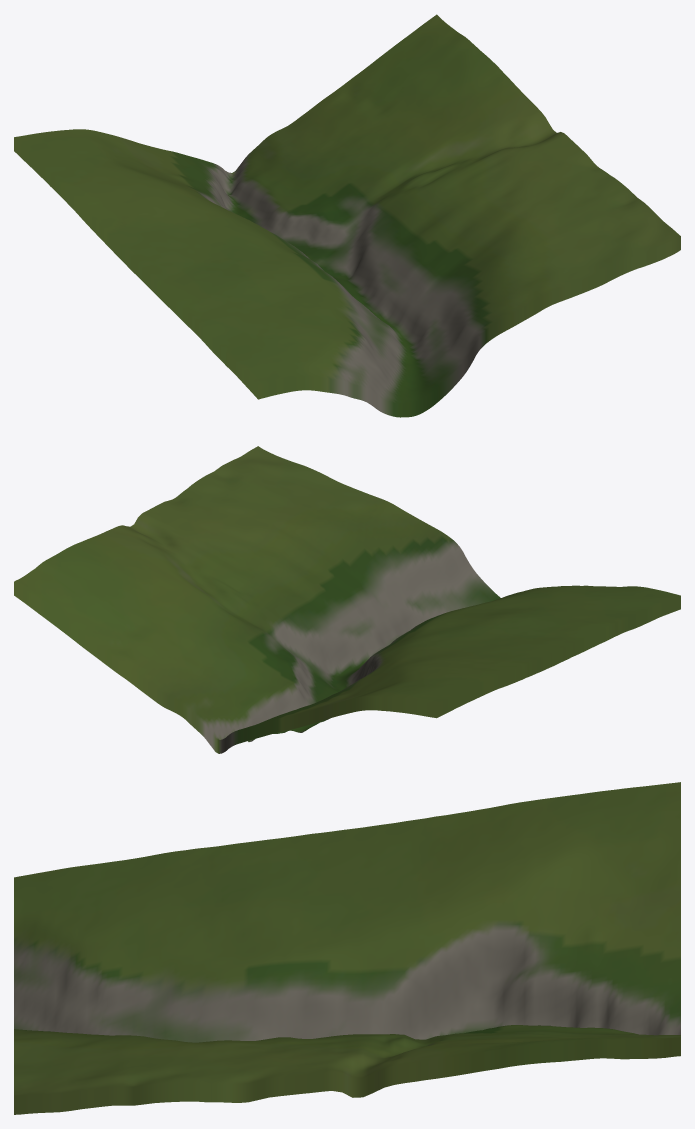
The model's file is terrain_11_-24.glb.
3 views of the same model, one above another, from view 1: azimuth 30°, elevation 25°; view 2: azimuth 150°, elevation 25°; view 3: azimuth 270°, elevation 25° (orthographic). The views are drawn at different scales.
Parts seen in each view (by area): view 1: terrain_11_-24; view 2: terrain_11_-24; view 3: terrain_11_-24.
Boxes of the visible parts, x1,y1,x2,y2 form: terrain_11_-24: (14, 14, 680, 417); terrain_11_-24: (14, 446, 680, 753); terrain_11_-24: (14, 782, 680, 1114).
Size of the model in its own units: 256 by 91.45 by 256.
